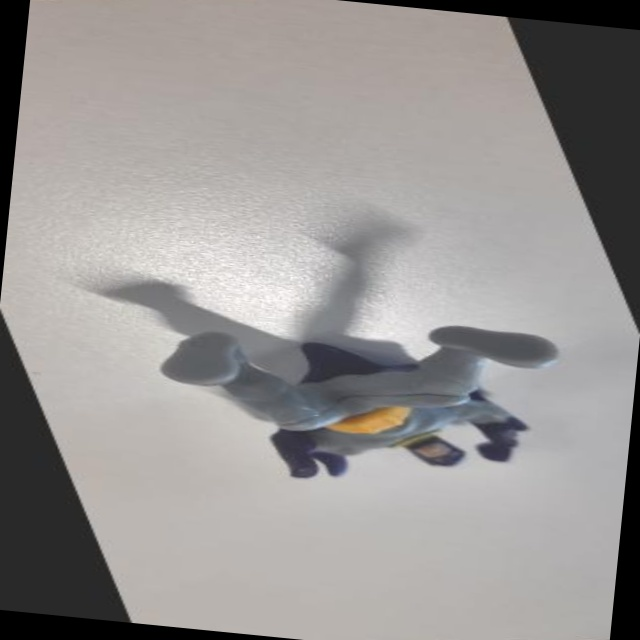Batman: (127, 285, 625, 525)
